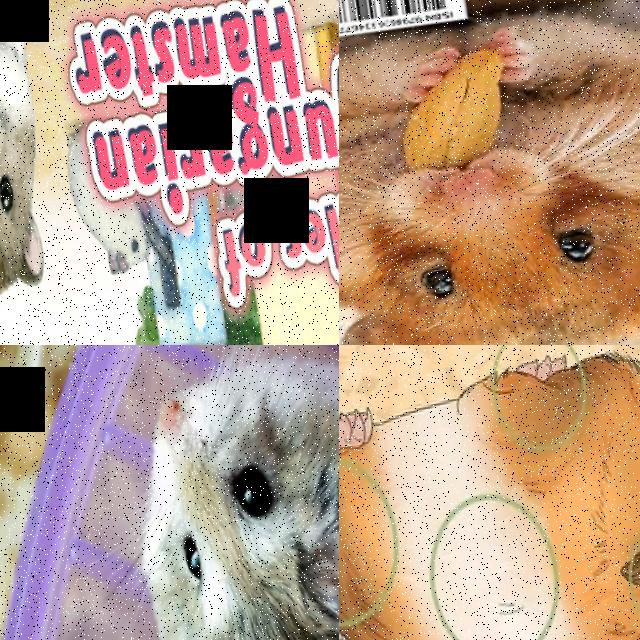hamster: (339, 0, 640, 345), (339, 345, 640, 640), (112, 345, 339, 640), (0, 0, 61, 319)
